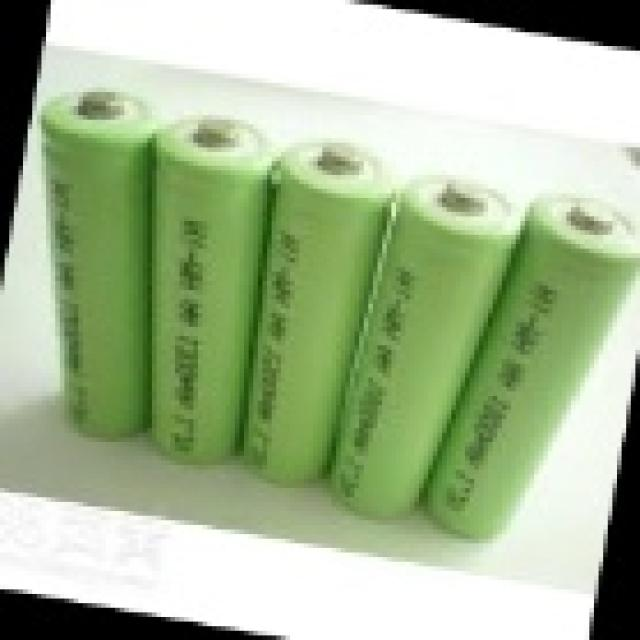elektronik: (435, 199, 633, 540), (337, 180, 517, 521), (248, 146, 396, 487), (153, 120, 272, 465), (37, 87, 152, 433)
